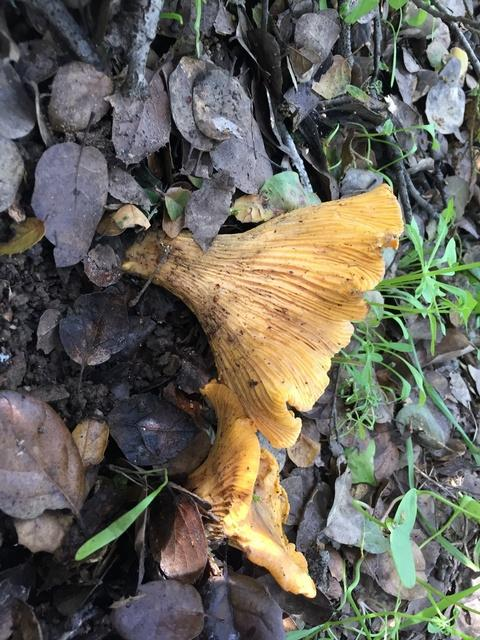edible_mushroom: (118, 181, 404, 449), (186, 378, 321, 601)
